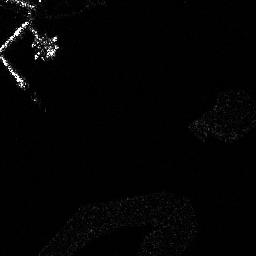ship: (40, 42, 60, 61)
